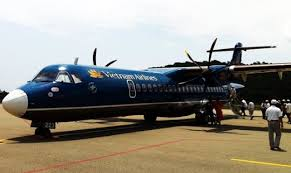maybay_dansu: (2, 40, 286, 134)
